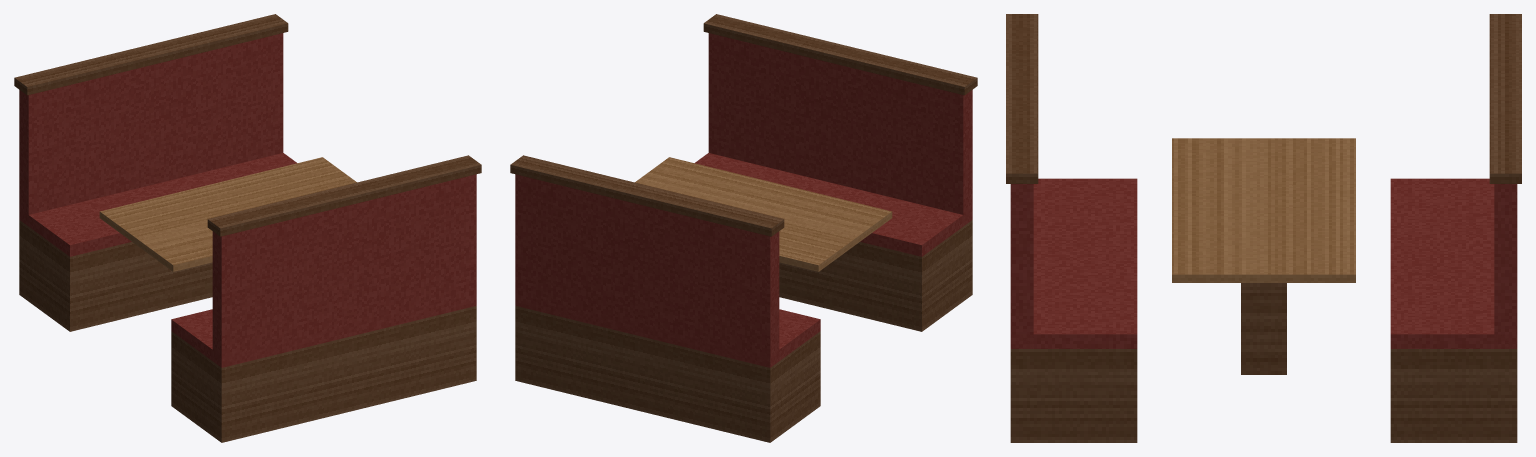
The model's file is pub_booth.glb.
The picture shows the model from 3 angles, left to right: view 1: azimuth 30°, elevation 25°; view 2: azimuth 150°, elevation 25°; view 3: azimuth 270°, elevation 25°; orthographic projection. The views are drawn at different scales.
Visible parts, largest first — view 1: pub_booth; view 2: pub_booth; view 3: pub_booth.
Part boxes in pixels (box(x1,y1,x2,y2)): pub_booth: box(14, 14, 481, 442); pub_booth: box(510, 14, 977, 442); pub_booth: box(1006, 14, 1521, 442).
Bounding box in the file's own units: 1.64 × 1.3 × 2.24.
Materials: 3 (3 with a texture image).
